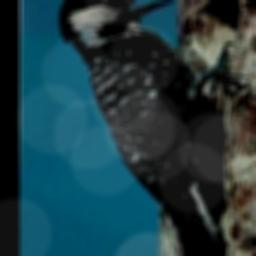Woodpecker: (50, 0, 252, 256)
